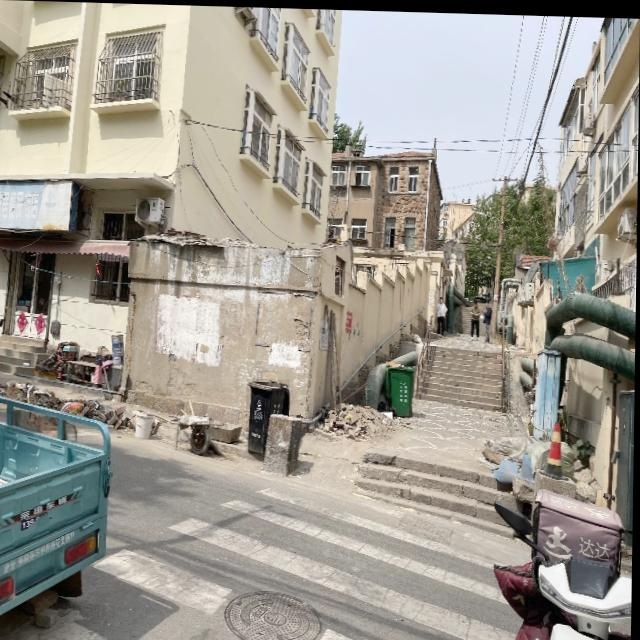garbage_bin: (247, 377, 291, 453)
overflow: (386, 358, 415, 415)
